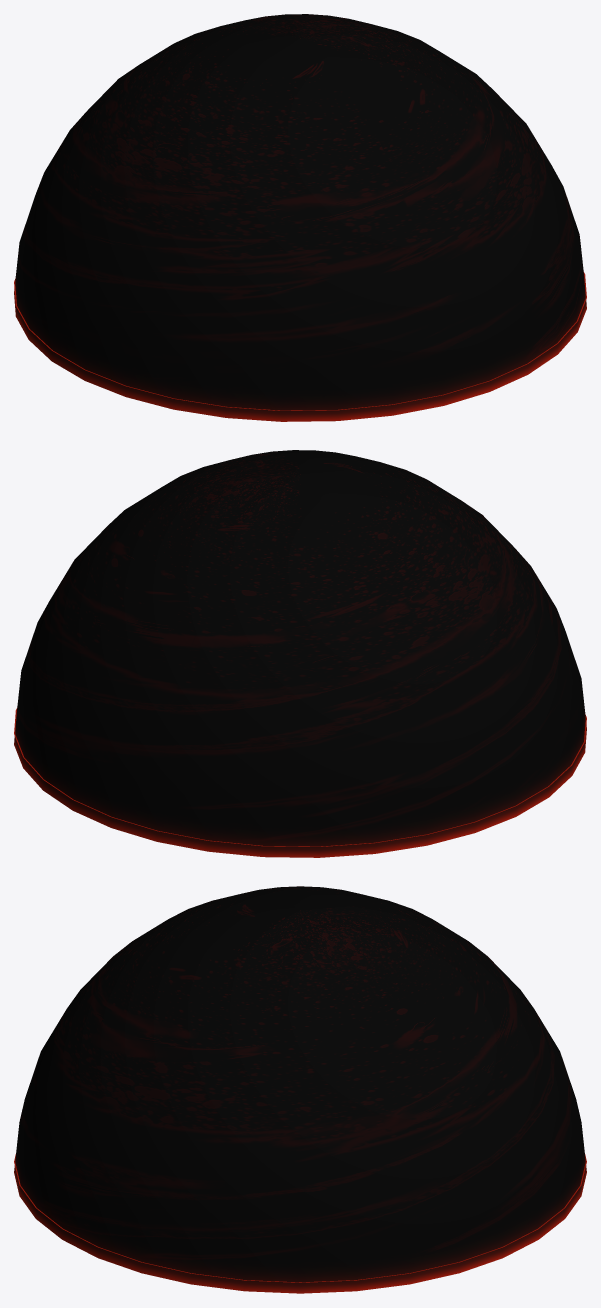
File: VFX_Protect.fbx
3 views of the same model, one above another, from view 1: azimuth 30°, elevation 25°; view 2: azimuth 150°, elevation 25°; view 3: azimuth 270°, elevation 25° (orthographic).
Visible parts, largest first — view 1: vfx_TreeProtect; view 2: vfx_TreeProtect; view 3: vfx_TreeProtect.
Part boxes in pixels (x1,y1,x2,y2): vfx_TreeProtect: [14, 14, 586, 421]; vfx_TreeProtect: [14, 450, 586, 857]; vfx_TreeProtect: [14, 886, 586, 1293].
Size of the model in its own units: 1376 by 694 by 1376.
